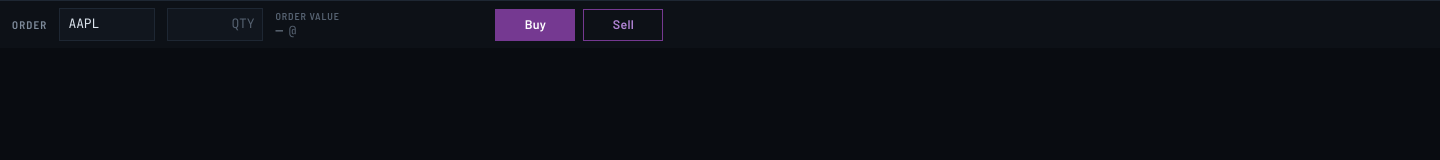
Scenario: TradeBar › shows the server's rejection in trade-error
In the field with test id "trade-quantity": (216, 24) [168,8,264,41], type "10"
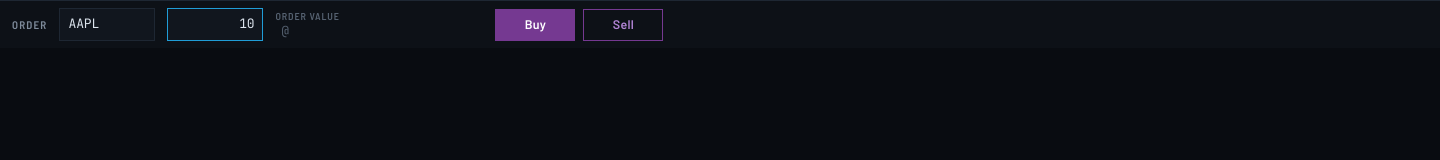
Click the button with test id "trade-buy": (536, 24) [496,8,576,40]
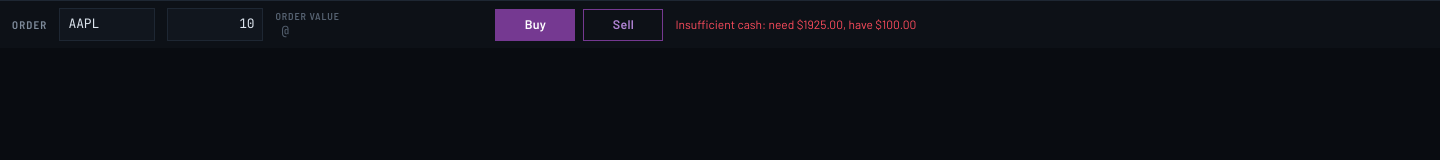
Result: the message with test id "trade-error" reads "Insufficient cash: need $1925.00, have $100.00" at [676,17,916,31]
